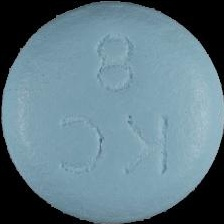55289-697: (0, 0, 224, 224)
